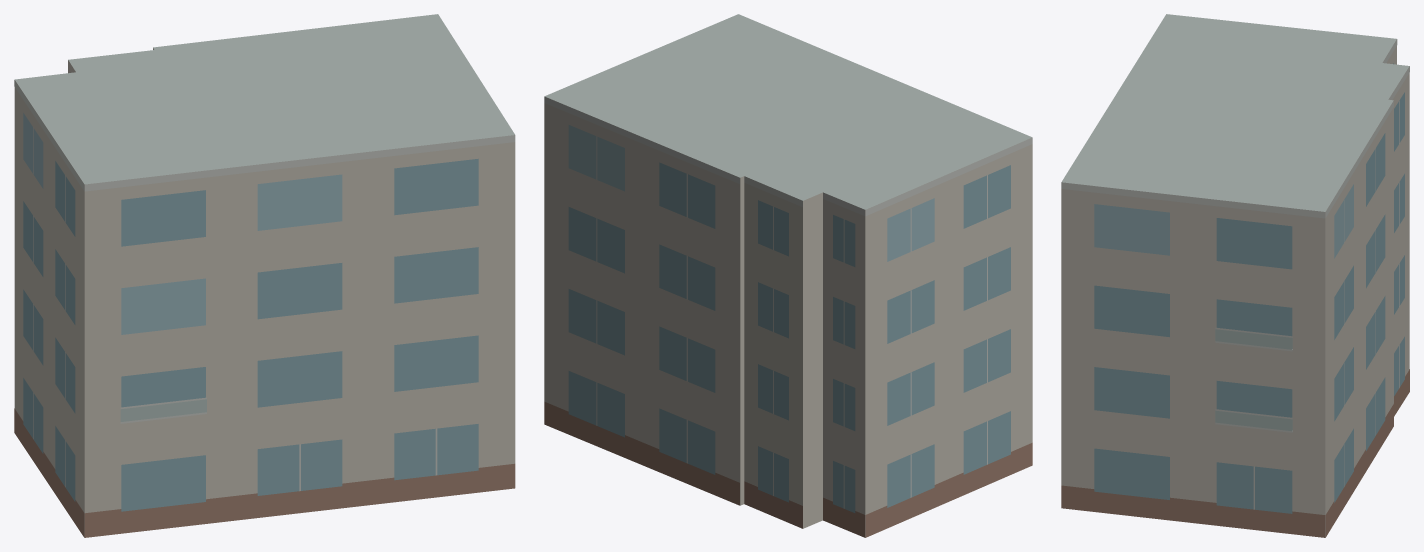
The model's file is survey-upis-32679283.glb.
3 views of the same model, side by side, from view 1: azimuth 30°, elevation 25°; view 2: azimuth 150°, elevation 25°; view 3: azimuth 270°, elevation 25° (orthographic). The views are drawn at different scales.
Visible parts, largest first — view 1: survey-upis-32679283.tmp; view 2: survey-upis-32679283.tmp; view 3: survey-upis-32679283.tmp.
Boxes of the visible parts, left/top/right/bottom form: survey-upis-32679283.tmp: left=14, top=14, right=515, bottom=537; survey-upis-32679283.tmp: left=544, top=14, right=1032, bottom=537; survey-upis-32679283.tmp: left=1061, top=14, right=1409, bottom=537.
Bounding box in the file's own units: 15.9 × 12.2 × 11.83.
